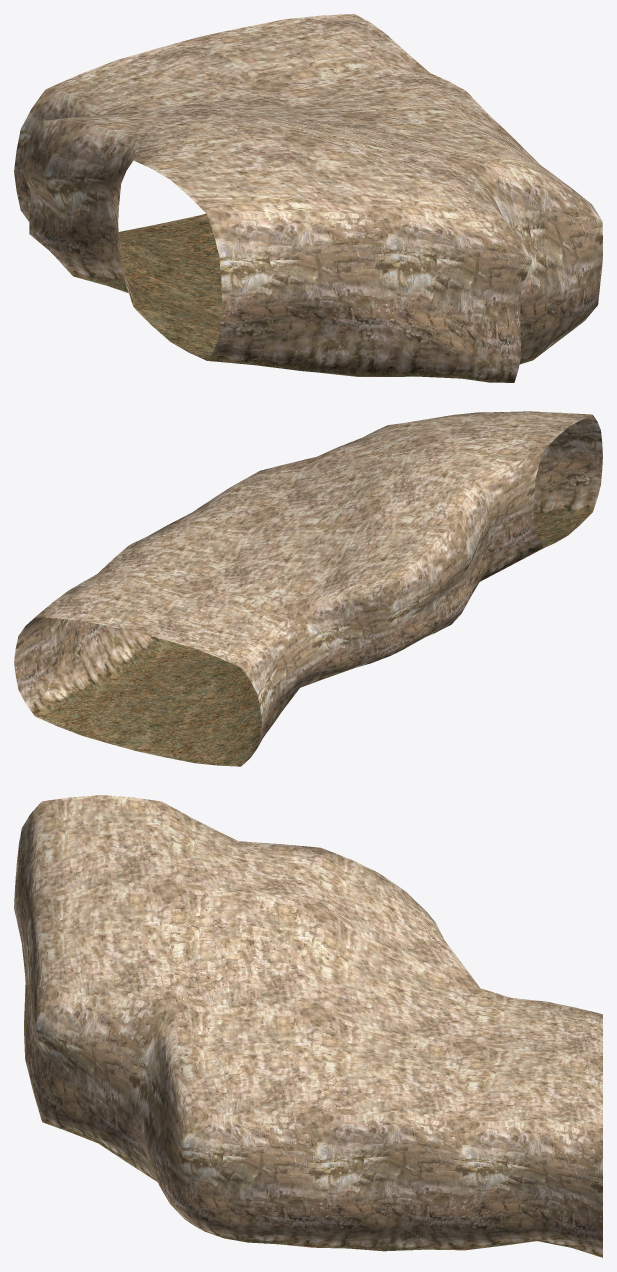
The model's file is thm_all_cave_s03_mirror_r4_mesh_r4.fbx.
3 renders of one model, top to bottom at view 1: azimuth 30°, elevation 25°; view 2: azimuth 150°, elevation 25°; view 3: azimuth 270°, elevation 25°, orthographic. The views are drawn at different scales.
Visible parts, largest first — view 1: mesh_node; view 2: mesh_node; view 3: mesh_node.
Part boxes in pixels (box(x1,y1,x2,y2)): mesh_node: box(14, 14, 602, 382); mesh_node: box(14, 411, 602, 766); mesh_node: box(14, 795, 602, 1257).
Size of the model in its own units: 26.79 by 16.79 by 32.05.
